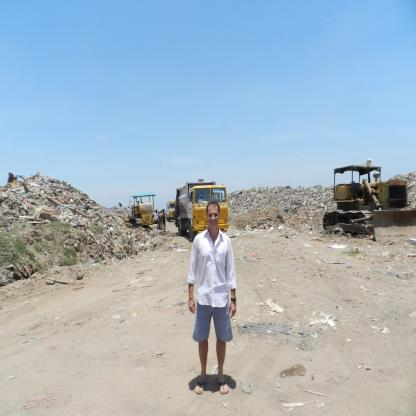person: (179, 188, 259, 401)
